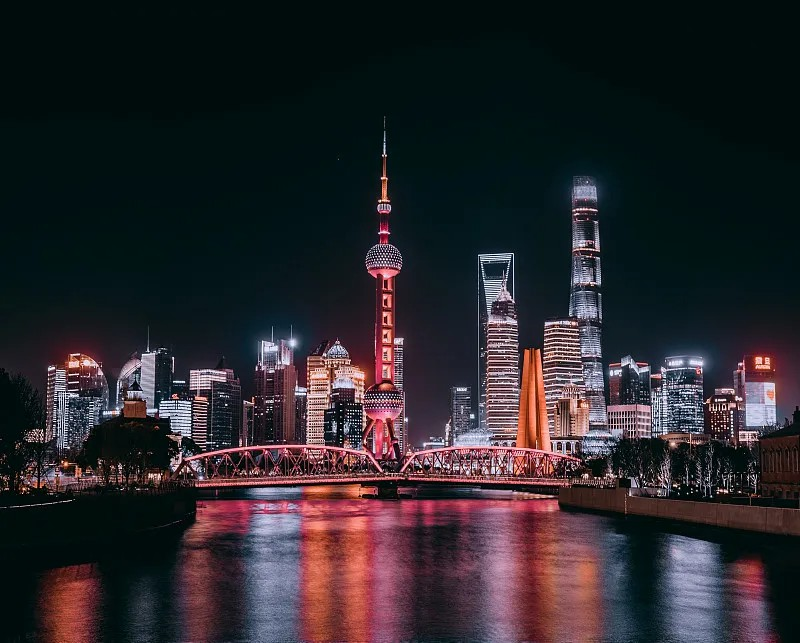Oriental: (363, 116, 404, 458)
